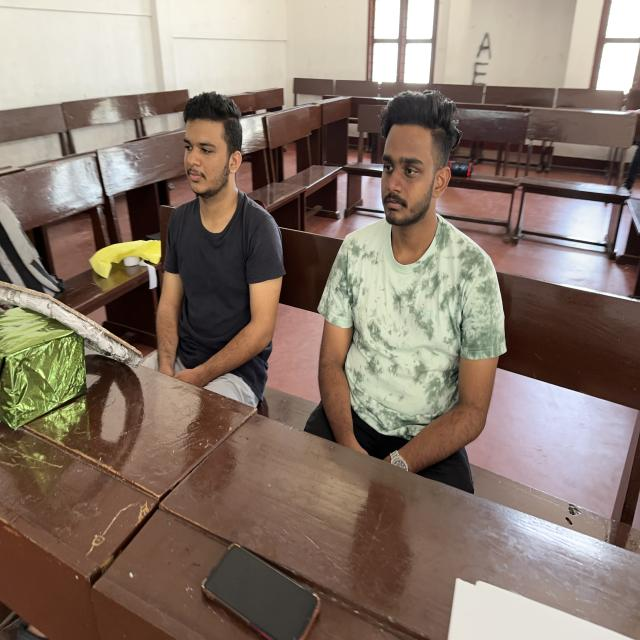Helmet: (322, 224, 504, 522), (160, 196, 286, 431)
